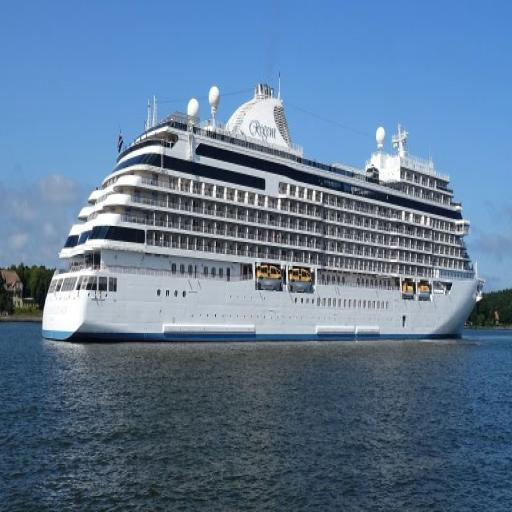cruises: (39, 76, 488, 358)
